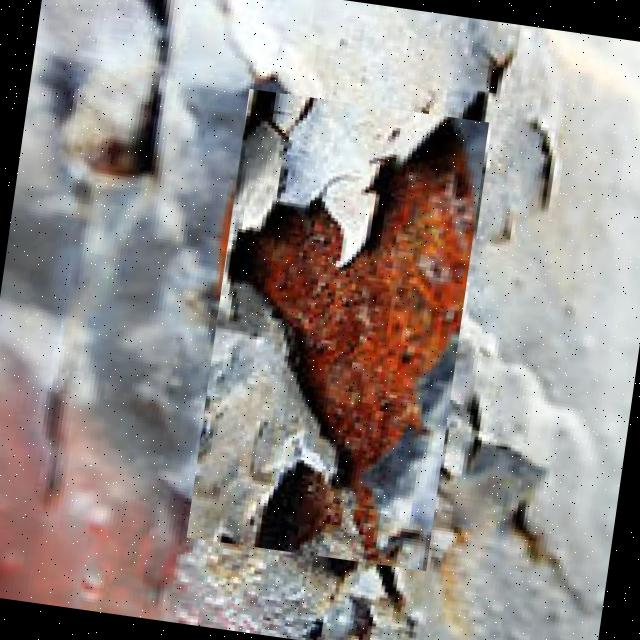Corrosion: (190, 95, 491, 568)
